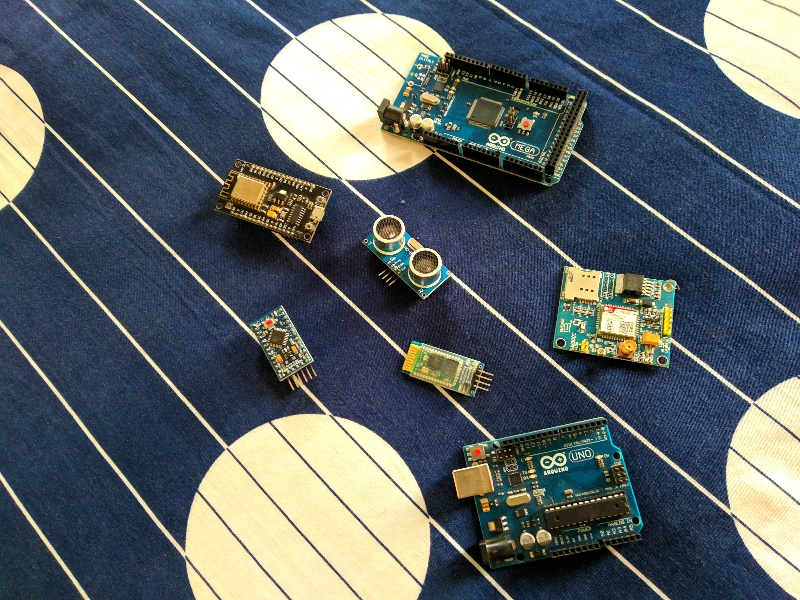Arduino Mega 2560: (372, 42, 596, 191)
Arduino Pro Mini: (248, 301, 324, 398)
Arduino UNO: (449, 412, 648, 574)
HC-05: (393, 336, 496, 405)
NodeMCU: (206, 152, 339, 253)
SIM800: (545, 260, 683, 375)
Sonar Sensor: (354, 208, 461, 306)
